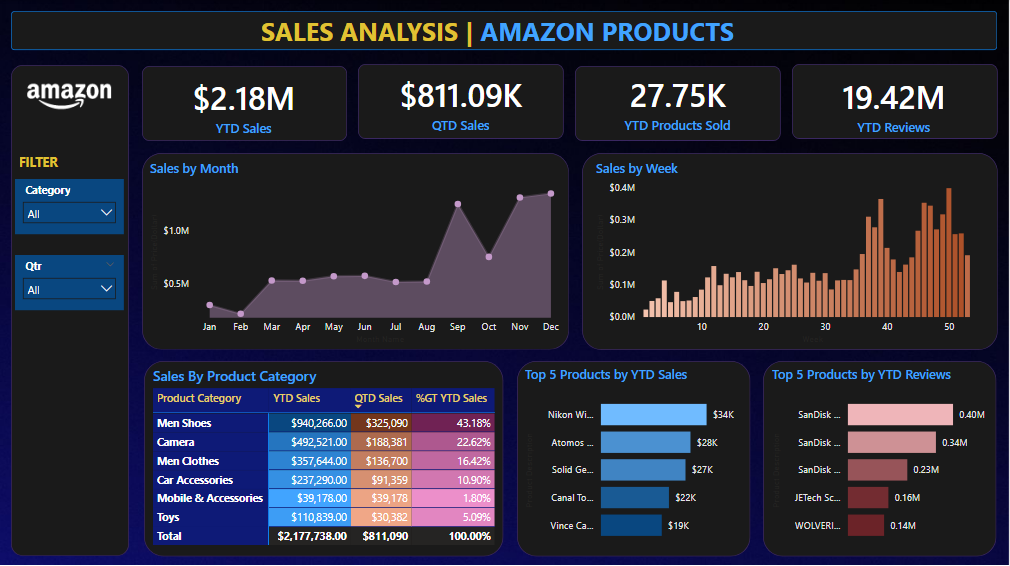

Layout of this report page (visuals, bound fields, positions):
{"tool":"powerbi","page":{"name":"Amazon Products","canvas":[1280,720],"ordinal":0},"visuals":[{"type":"shape","box":[15.6,15.6,1250.1,49.6],"z":0},{"type":"textbox","box":[327.4,12.8,625,65.2],"z":1000},{"type":"shape","box":[15.2,83.7,149.6,622.4],"z":2000},{"type":"shape","box":[181.4,85.5,260,95],"z":3000},{"type":"shape","box":[455.4,82.7,260.8,95],"z":4000},{"type":"card","fields":{"Values":["Amazon_Data.YTD Sales"]},"box":[188.5,88.3,242.4,92.1],"z":5000},{"type":"shape","box":[730.1,85.5,260.8,95],"z":6000},{"type":"shape","box":[1004.9,82.7,260.8,95],"z":7000},{"type":"card","fields":{"Values":["Amazon_Data.QTD Sales"]},"box":[463.5,85.5,242.4,92.1],"z":8000},{"type":"card","fields":{"Values":["Amazon_Data.YTD Products Sold"]},"box":[738.4,85.5,242.4,92.1],"z":9000},{"type":"card","fields":{"Values":["Amazon_Data.YTD Reviews"]},"box":[1013.4,86.9,242.4,92.1],"z":10000},{"type":"shape","box":[181.4,195.6,541.4,249.4],"z":11000},{"type":"areaChart","title":"Sales by Month","fields":{"Category":["Date Table.Month Name"],"Y":["Sum(Amazon_Data.Price(Dollar))"]},"box":[185.8,203.7,534,238.1],"z":12000},{"type":"shape","box":[739,195.2,527.3,249.7],"z":13000},{"type":"columnChart","title":"Sales by Week","fields":{"Category":["Date Table.Week Number"],"Y":["Sum(Amazon_Data.Price(Dollar))"]},"box":[751.5,203.7,503.7,238.1],"z":14000},{"type":"shape","box":[184.4,458.3,455.6,247.7],"z":15000},{"type":"pivotTable","title":"Sales By Product Category","fields":{"Rows":["Amazon_Data.Product Category"],"Values":["Amazon_Data.YTD Sales1","Amazon_Data.QTD Sales","Amazon_Data.YTD Sales"]},"box":[189.9,465.2,445.9,235.4],"z":16000},{"type":"shape","box":[656.5,458.3,295.9,247.7],"z":17000},{"type":"shape","box":[968.9,458.3,295.9,247.7],"z":18000},{"type":"clusteredBarChart","title":"Top 5 Products by YTD Sales","fields":{"Y":["Amazon_Data.YTD Sales"],"Category":["Amazon_Data.Product Description"]},"box":[662,465.2,284.9,235.4],"z":19000},{"type":"clusteredBarChart","title":"Top 5 Products by YTD Reviews","fields":{"Category":["Amazon_Data.Product Description"],"Y":["Amazon_Data.YTD Reviews"]},"box":[974.5,465.2,284.9,235.4],"z":20000},{"type":"slicer","fields":{"Values":["Amazon_Data.Product Category"]},"box":[20,228.3,138.3,70],"z":21000},{"type":"slicer","fields":{"Values":["Date Table.Qtr"]},"box":[20,325,138.3,70],"z":22000},{"type":"textbox","box":[20,191.7,85,33.3],"z":23000},{"type":"image","box":[16.7,55,145,136.7],"z":23001}]}

Visuals, with their boxes in screenshot pixels (x1, y1, x2, y2), scaled from the page's 1280x720 canvas onto the 1010x566 screenshot:
shape: box=[12, 12, 999, 51]
textbox: box=[258, 10, 752, 61]
shape: box=[12, 66, 130, 555]
shape: box=[143, 67, 348, 142]
shape: box=[359, 65, 565, 140]
card - Amazon_Data.YTD Sales: box=[149, 69, 340, 142]
shape: box=[576, 67, 782, 142]
shape: box=[793, 65, 999, 140]
card - Amazon_Data.QTD Sales: box=[366, 67, 557, 140]
card - Amazon_Data.YTD Products Sold: box=[583, 67, 774, 140]
card - Amazon_Data.YTD Reviews: box=[800, 68, 991, 141]
shape: box=[143, 154, 570, 350]
"Sales by Month" areaChart: box=[147, 160, 568, 347]
shape: box=[583, 153, 999, 350]
"Sales by Week" columnChart: box=[593, 160, 990, 347]
shape: box=[146, 360, 505, 555]
"Sales By Product Category" pivotTable: box=[150, 366, 502, 551]
shape: box=[518, 360, 752, 555]
shape: box=[765, 360, 998, 555]
"Top 5 Products by YTD Sales" clusteredBarChart: box=[522, 366, 747, 551]
"Top 5 Products by YTD Reviews" clusteredBarChart: box=[769, 366, 994, 551]
slicer - Amazon_Data.Product Category: box=[16, 179, 125, 234]
slicer - Date Table.Qtr: box=[16, 255, 125, 311]
textbox: box=[16, 151, 83, 177]
image: box=[13, 43, 128, 151]
